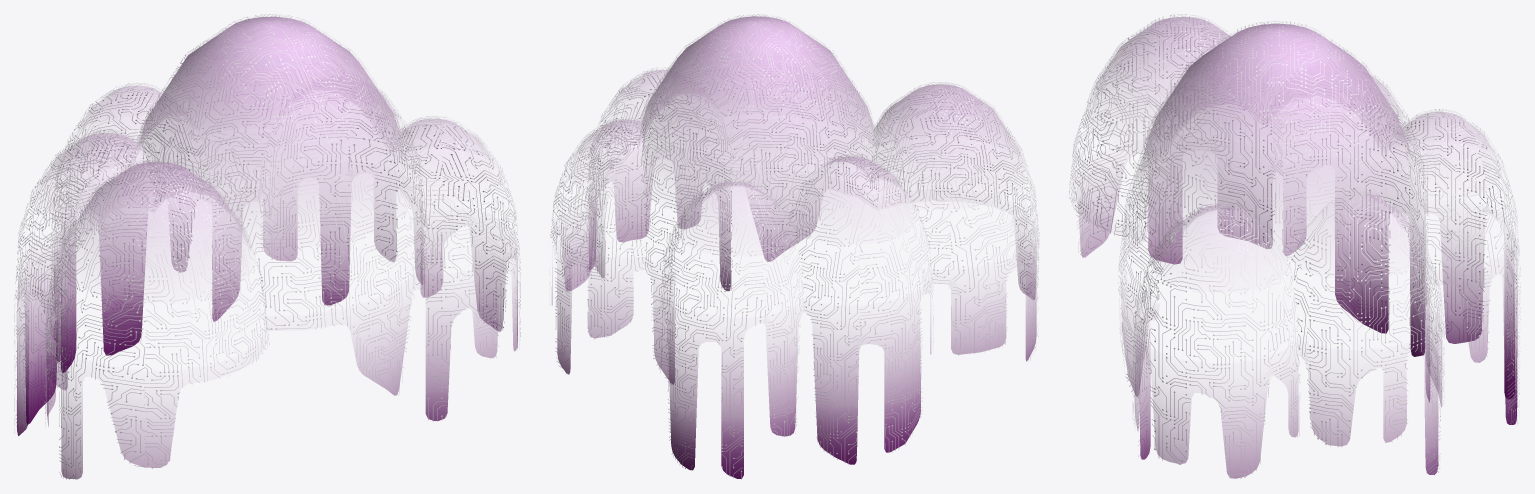
File: pm-dome-02.glb
The picture shows the model from 3 angles, left to right: view 1: azimuth 30°, elevation 25°; view 2: azimuth 150°, elevation 25°; view 3: azimuth 270°, elevation 25°; orthographic projection. The views are drawn at different scales.
Visible parts, largest first — view 1: Dome02_Art; view 2: Dome02_Art; view 3: Dome02_Art.
Part boxes in pixels (x1,y1,x2,y2): Dome02_Art: (14, 14, 520, 479); Dome02_Art: (549, 14, 1039, 479); Dome02_Art: (1069, 14, 1520, 478).
Size of the model in its own units: 41.38 by 34.61 by 34.2.
2 materials, 2 textured.
